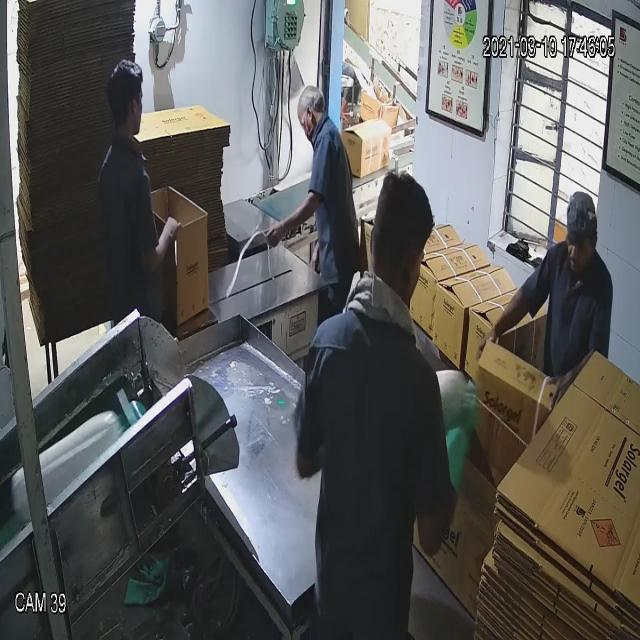No_Gloves: (46, 70, 501, 318)
